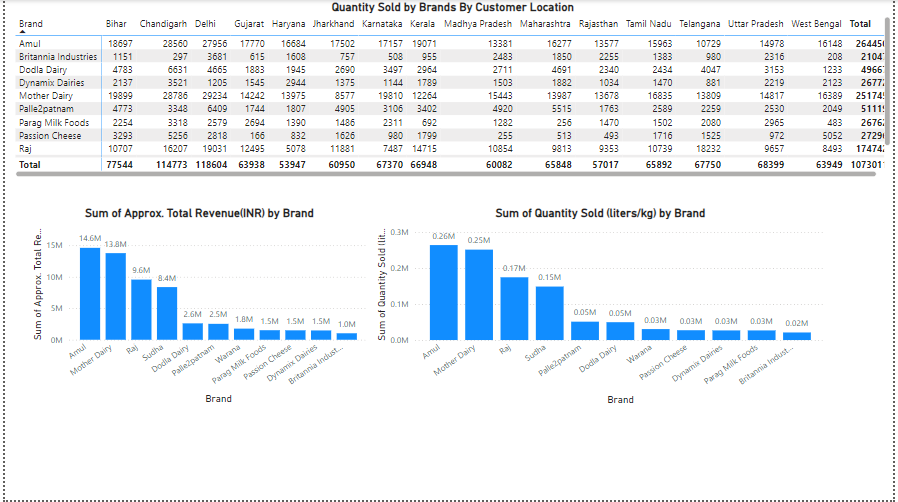

Layout of this report page (visuals, bound fields, positions):
{"tool":"powerbi","page":{"name":"Page 3","canvas":[1280,720],"ordinal":2},"visuals":[{"type":"pivotTable","title":"Quantity Sold by Brands By Customer Location","fields":{"Rows":["dairy_dataset.Brand"],"Columns":["dairy_dataset.Customer Location"],"Values":["Sum(dairy_dataset.Quantity Sold (liters/kg))"]},"box":[10.1,0,1269.9,260.4],"z":0},{"type":"columnChart","fields":{"Category":["dairy_dataset.Brand"],"Y":["Sum(dairy_dataset.Approx. Total Revenue(INR))"]},"box":[33.6,297.3,493.9,290.6],"z":1000},{"type":"columnChart","fields":{"Category":["dairy_dataset.Brand"],"Y":["Sum(dairy_dataset.Quantity Sold (liters/kg))"]},"box":[528,297,658,291],"z":2000}]}

Visuals, with their boxes in screenshot pixels (x1, y1, x2, y2), scaled from the page's 1280x720 canvas onto the 898x502 screenshot:
"Quantity Sold by Brands By Customer Location" pivotTable: detection(7, 0, 897, 182)
columnChart - dairy_dataset.Brand x Sum(dairy_dataset.Approx. Total Revenue(INR)): detection(24, 207, 370, 410)
columnChart - dairy_dataset.Brand x Sum(dairy_dataset.Quantity Sold (liters/kg)): detection(370, 207, 832, 410)
